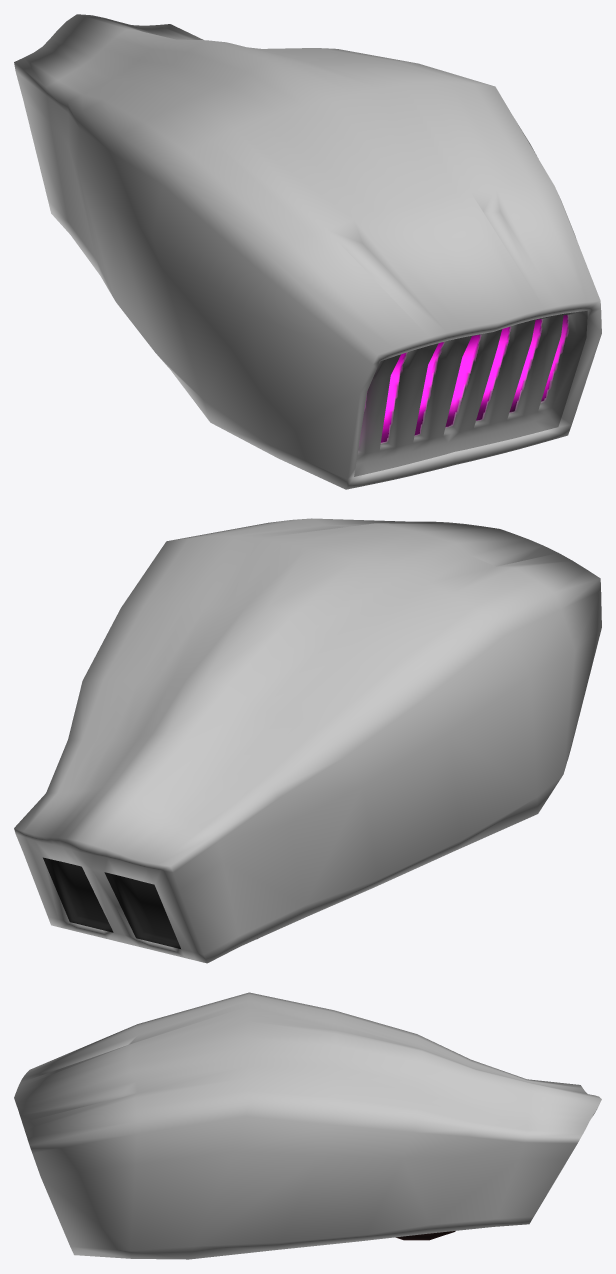
The model's file is motorbike.glb.
The picture shows the model from 3 angles, top to bottom: view 1: azimuth 30°, elevation 25°; view 2: azimuth 150°, elevation 25°; view 3: azimuth 270°, elevation 25°; orthographic projection. The views are drawn at different scales.
Visible parts, largest first — view 1: Cube; view 2: Cube; view 3: Cube.
Part boxes in pixels (left/top/right/bottom): Cube: left=14, top=14, right=601, bottom=489; Cube: left=14, top=518, right=601, bottom=963; Cube: left=14, top=992, right=601, bottom=1259.
Bounding box in the file's own units: 4.84 × 3.37 × 9.38.
1 material, 1 textured.
